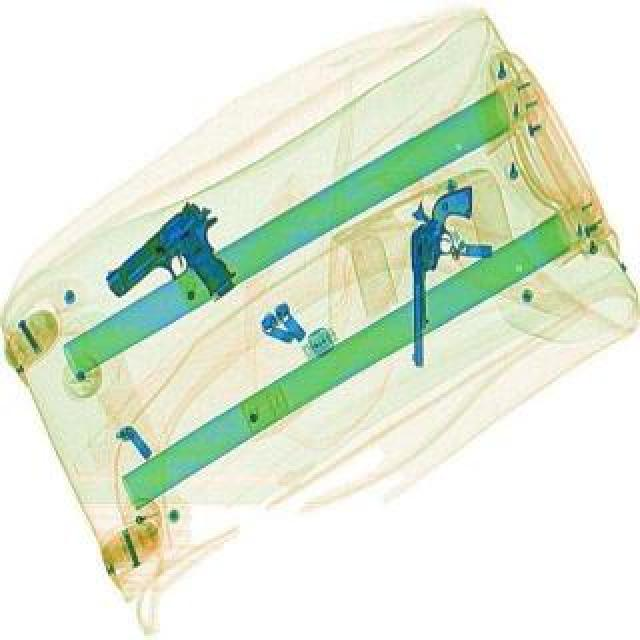gun: (96, 192, 264, 344), (408, 186, 472, 366)
